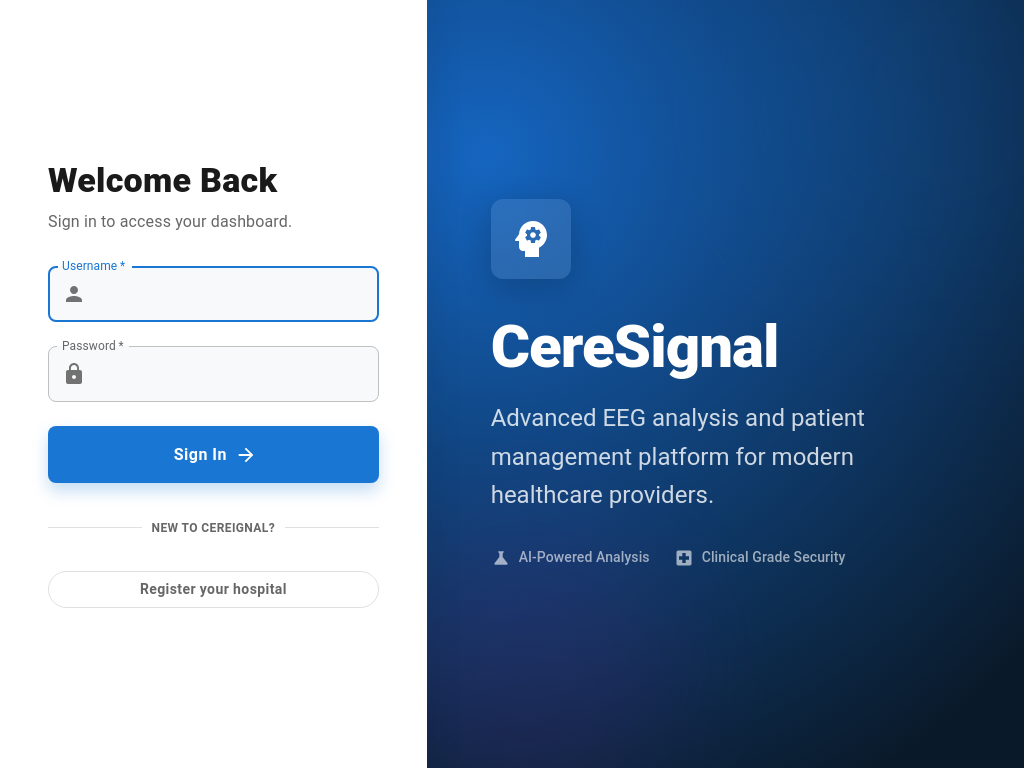
it: submitting valid credentials › shows the failure and stays put when the credentials are wrong
Type "doctor_a" into the field labelled "Username *" at (236, 294), box [94, 266, 379, 322]
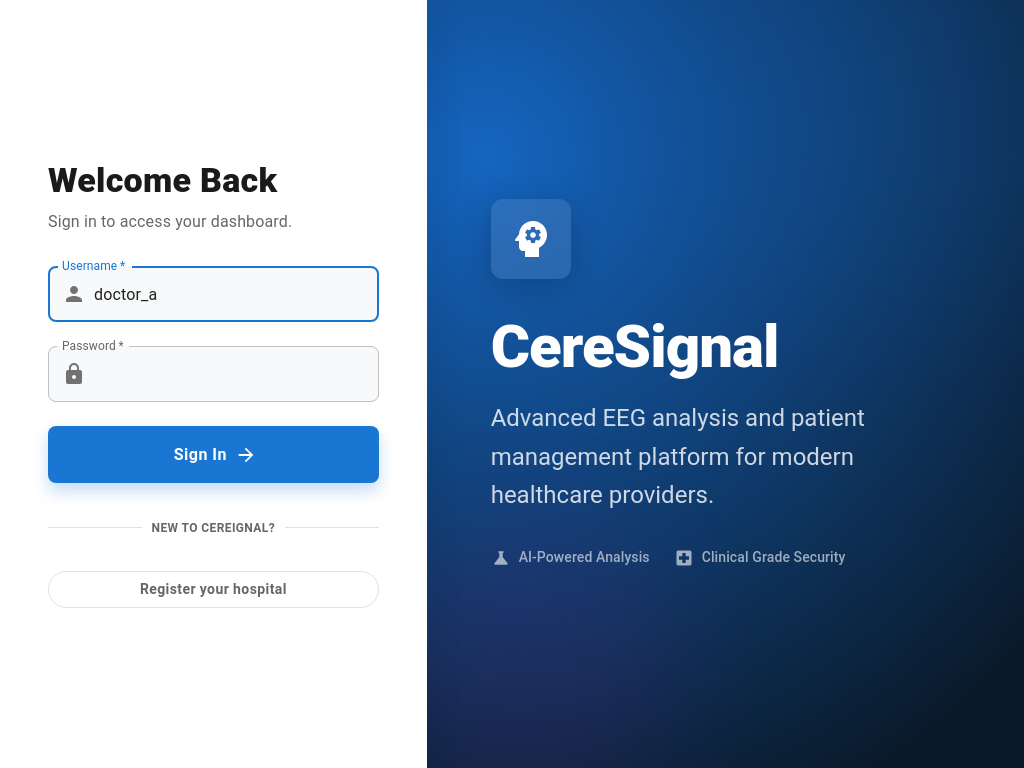
Type "wrongpassword" into the password field labelled "Password *" at (236, 374), box [94, 346, 379, 402]
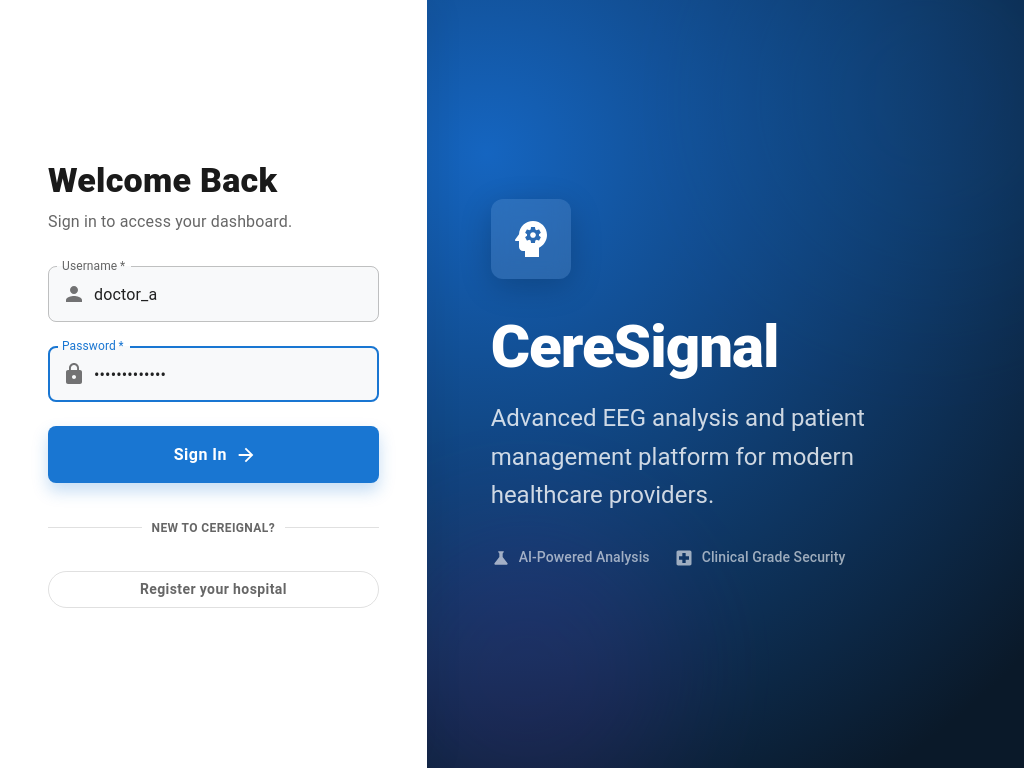
Click the button "Sign In" at (213, 455), box [48, 426, 379, 483]
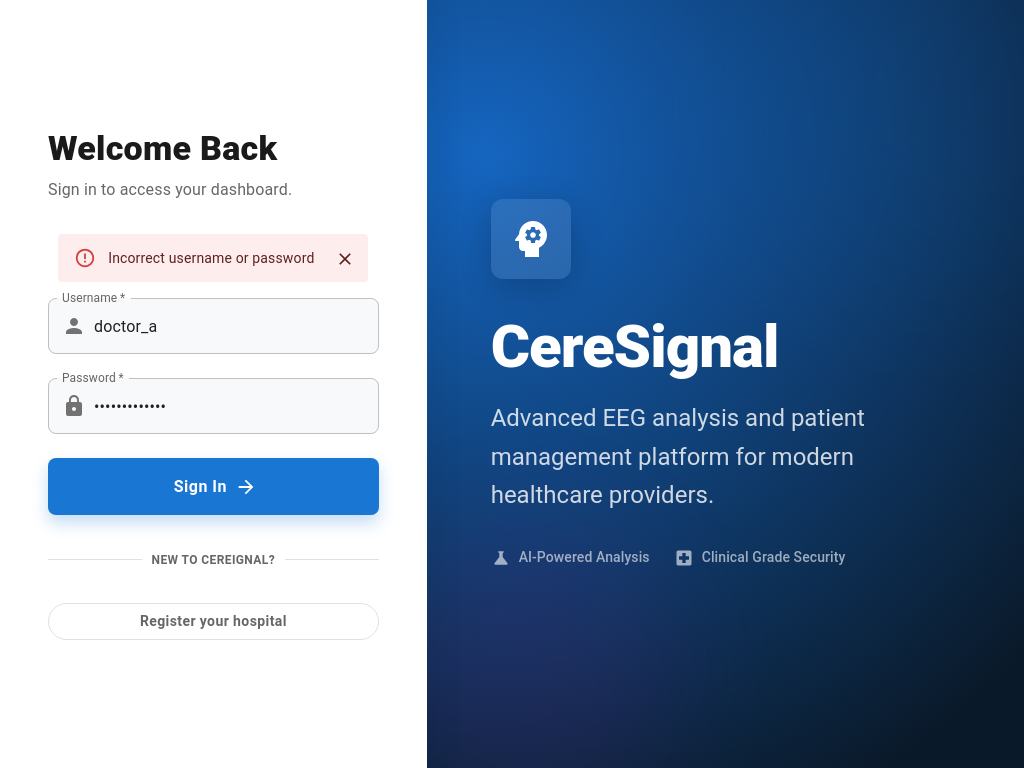
expect the message "Incorrect username or password" is shown: met, box [58, 234, 368, 282]
expect the message reads "Incorrect username or password": met, box [108, 250, 314, 266]
